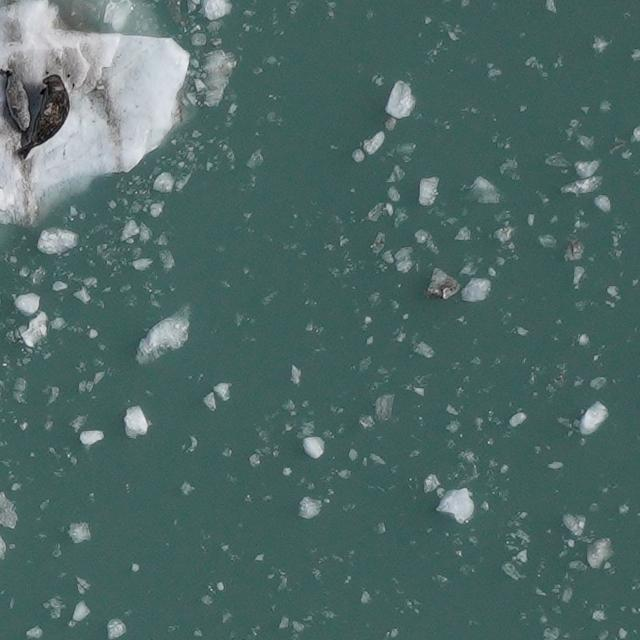seal: (12, 70, 74, 163), (0, 62, 36, 137)
